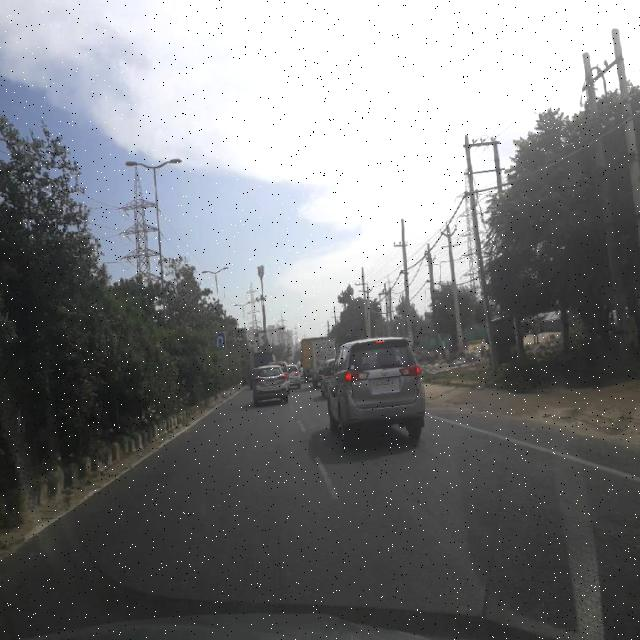D20: (35, 448, 640, 611)
